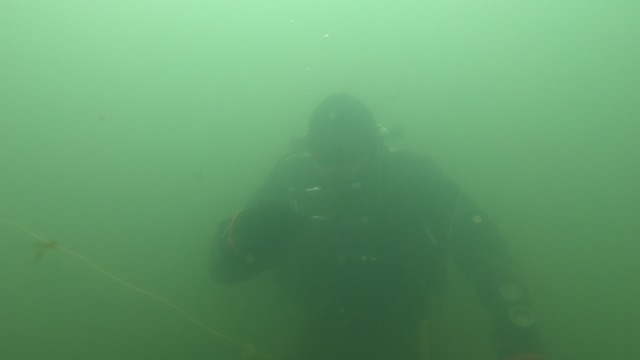Diver: (185, 63, 551, 341)
Head: (280, 85, 400, 228)
